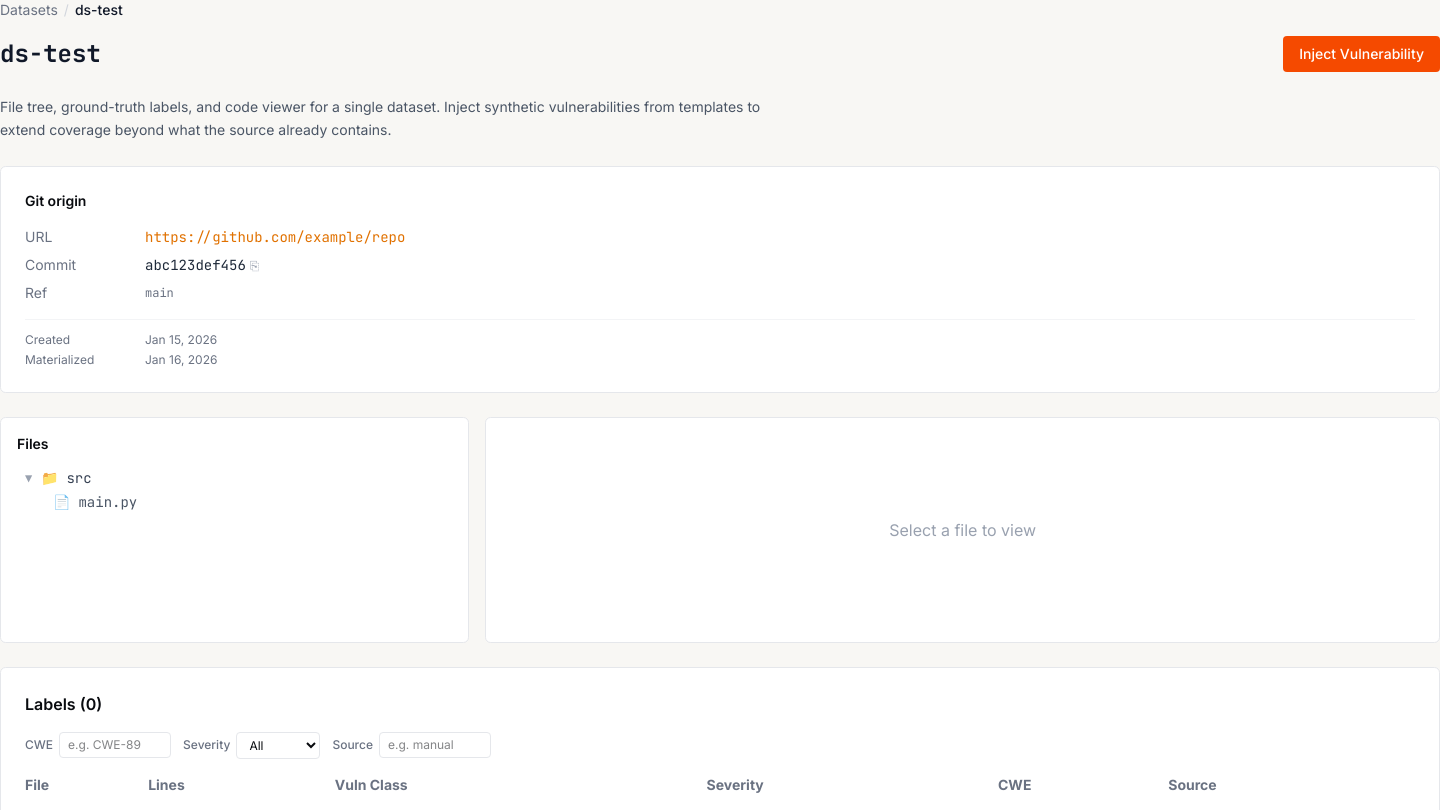
Scenario: DatasetDetail — injection workflow › closes modal when × button is clicked
The image size is (1440, 810).
Click the button "Inject Vulnerability". click: (1362, 54)
box: [1283,36,1439,72]
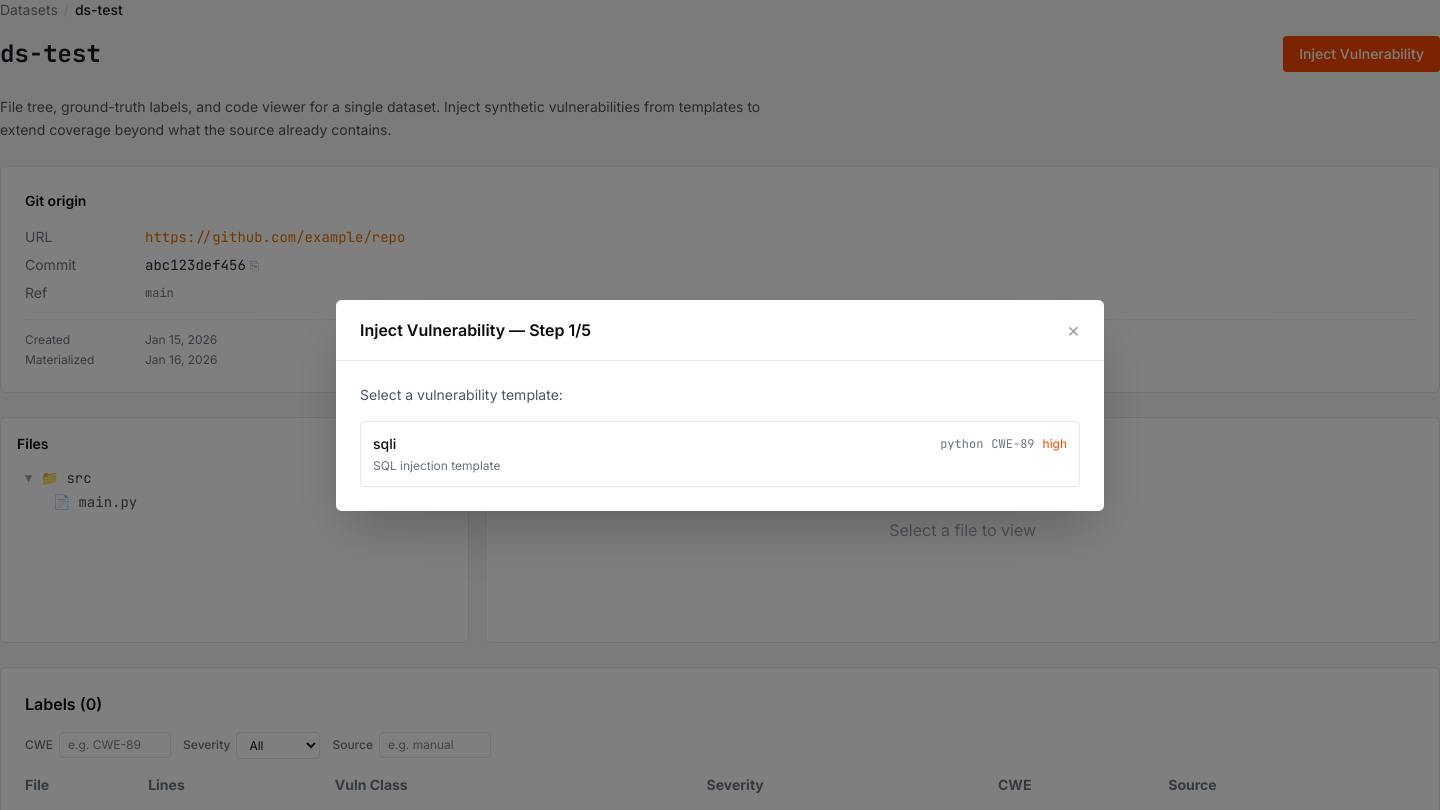
Result: the heading "Inject Vulnerability — Step 1/5" is shown at [360,318,591,342]
Click the button "×". click: (1073, 330)
box: [1067,316,1080,344]
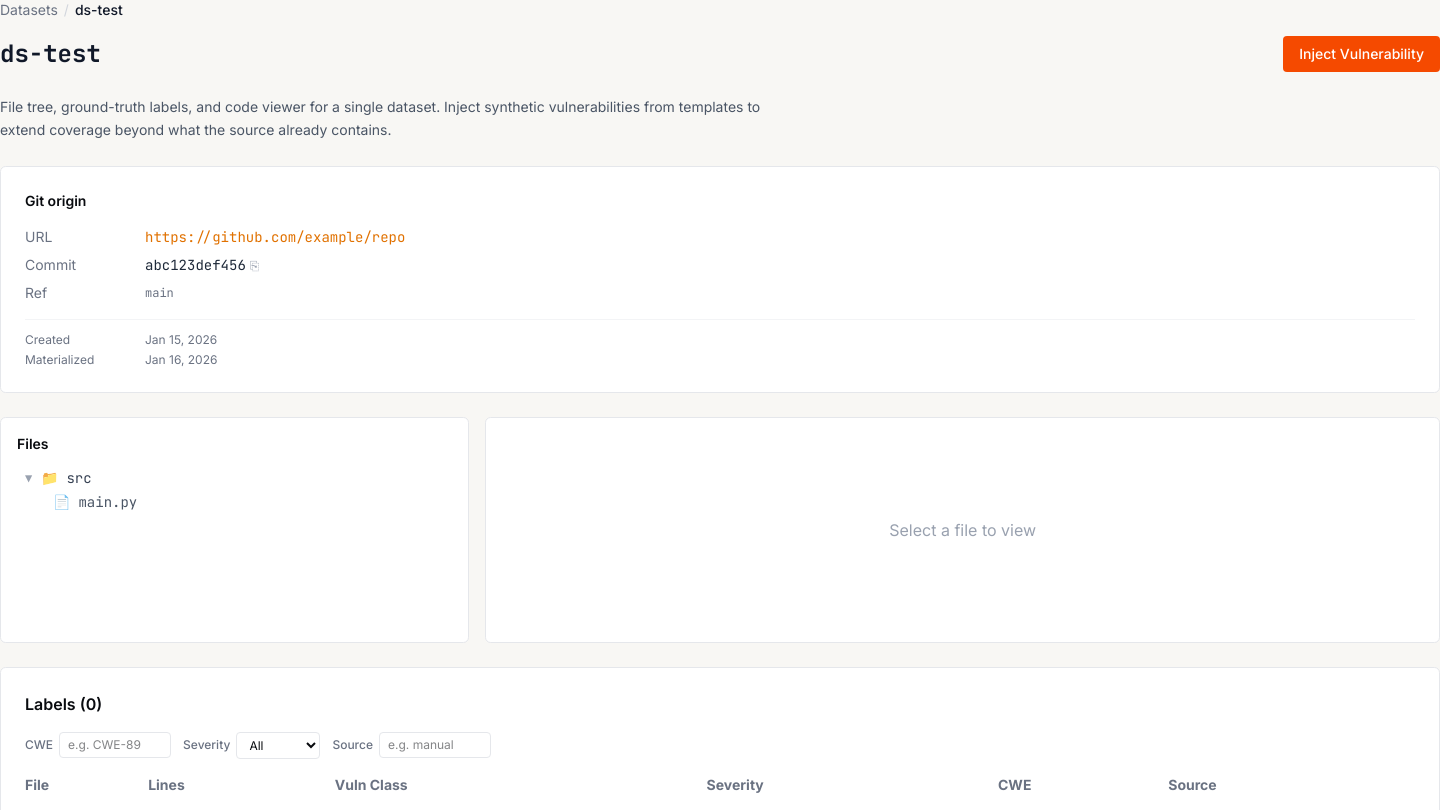
Result: the heading "Step 1/5" is gone
